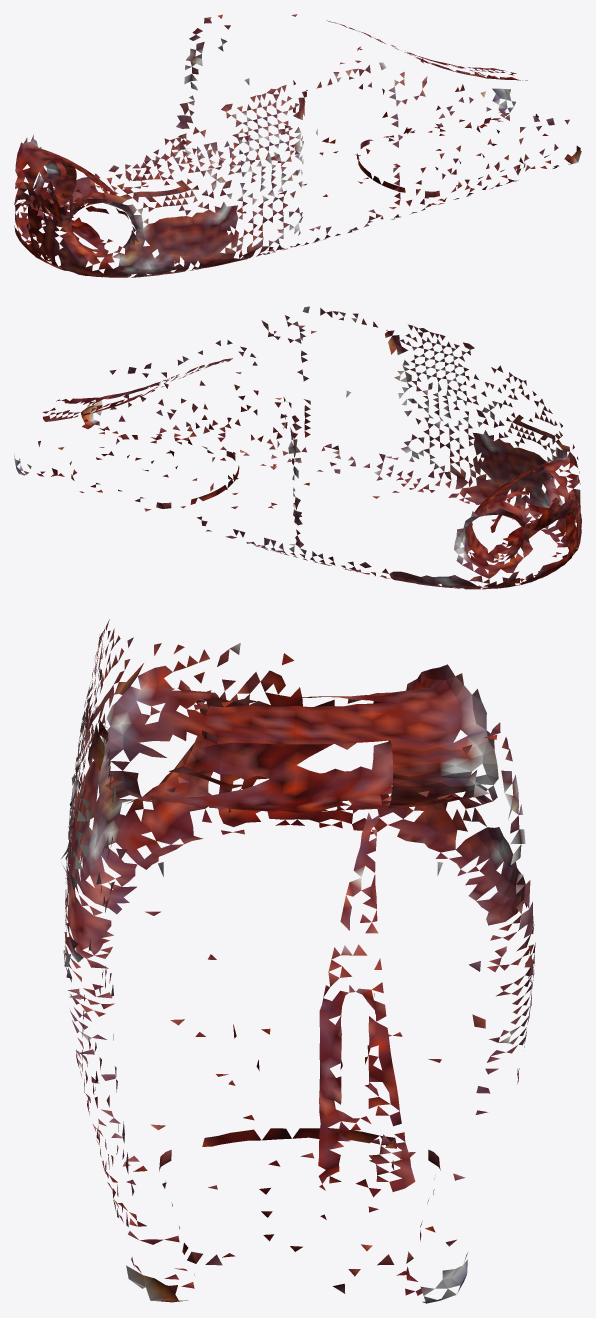
The model's file is whistle_final400.obj.
The picture shows the model from 3 angles, top to bottom: view 1: azimuth 30°, elevation 25°; view 2: azimuth 150°, elevation 25°; view 3: azimuth 270°, elevation 25°; orthographic projection. The views are drawn at different scales.
Size of the model in its own units: 1.93 by 0.5823 by 0.7665.
